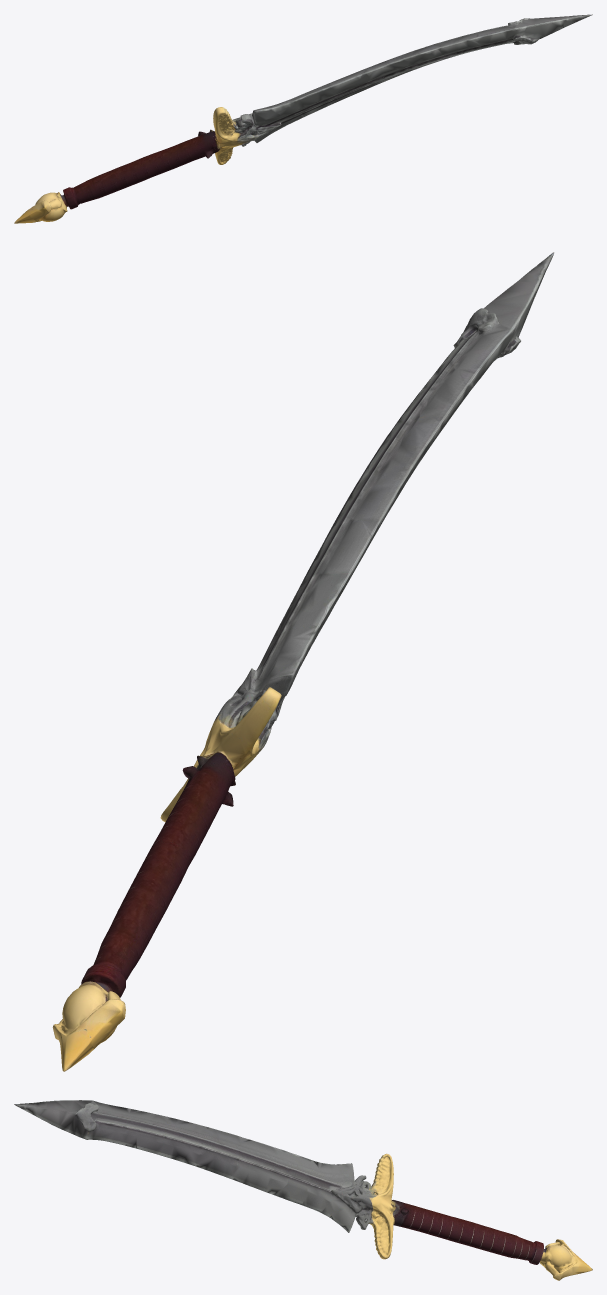
File: gladius.glb
3 renders of one model, top to bottom at view 1: azimuth 90°, elevation 25°; view 2: azimuth 150°, elevation 25°; view 3: azimuth 270°, elevation 25°, orthographic. The views are drawn at different scales.
Visible parts, largest first — view 1: mesh_node; view 2: mesh_node; view 3: mesh_node.
Part boxes in pixels (x1=…): mesh_node: x1=14, y1=14, x2=592, y2=223; mesh_node: x1=52, y1=252, x2=554, y2=1071; mesh_node: x1=14, y1=1100, x2=592, y2=1280.
Bounding box in the file's own units: 11.75 × 30.8 × 85.43.
Materials: 1 (1 with a texture image).
